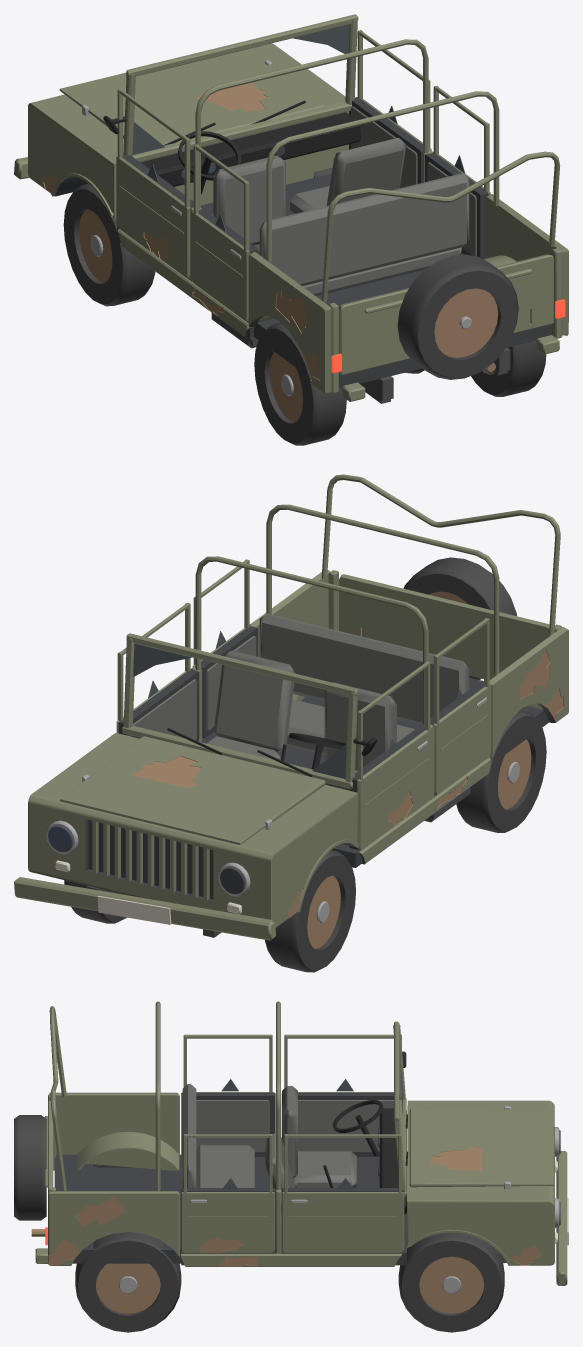
The model's file is wreck_uaz.glb.
3 views of the same model, one above another, from view 1: azimuth 30°, elevation 25°; view 2: azimuth 150°, elevation 25°; view 3: azimuth 270°, elevation 25° (orthographic). The views are drawn at different scales.
Visible parts, largest first — view 1: body, tailgate, bonnet, door_fl, wheel_rl, wheel_fl, door_rl, door_fr, door_rr, wheel_rr; view 2: body, bonnet, tailgate, door_fl, wheel_fl, wheel_rl, door_rl, door_fr, door_rr; view 3: body, bonnet, door_fr, wheel_fr, wheel_rr, door_rr, door_fl, door_rl, tailgate.
Part boxes in pixels (x1,y1,x2,y2): body: (14,14,568,403); tailgate: (339,254,553,379); bonnet: (59,49,324,145); door_fl: (116,88,193,277); wheel_rl: (254,322,346,445); wheel_fl: (63,183,155,306); door_rl: (192,144,258,320); door_fr: (349,30,431,188); door_rr: (425,86,490,259); wheel_rr: (471,340,546,396); body: (14,474,568,940); bonnet: (60,736,325,844); tailgate: (339,557,551,679); door_fl: (349,661,431,849); wheel_fl: (265,850,355,972); wheel_rl: (456,710,546,832); door_rl: (430,618,490,794); door_fr: (116,602,199,741); door_rr: (192,559,258,738); body: (31,1001,568,1285); bonnet: (409,1106,553,1189); door_fr: (282,1134,404,1252); wheel_fr: (398,1232,504,1332); wheel_rr: (75,1232,181,1332); door_rr: (181,1134,274,1252); door_fl: (284,1034,401,1156); door_rl: (181,1034,274,1156); tailgate: (14,1100,53,1220).
Bounding box in the file's own units: 1.9 × 1.98 × 4.08.
